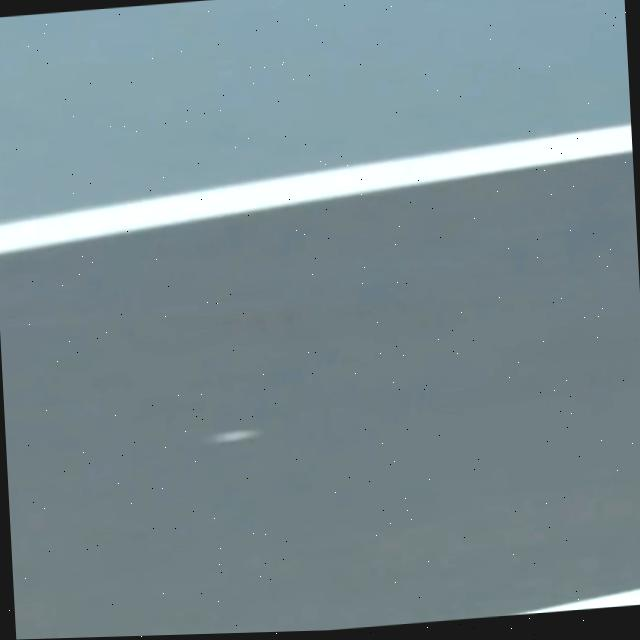center: (494, 587, 640, 617)
left: (0, 123, 633, 253)
